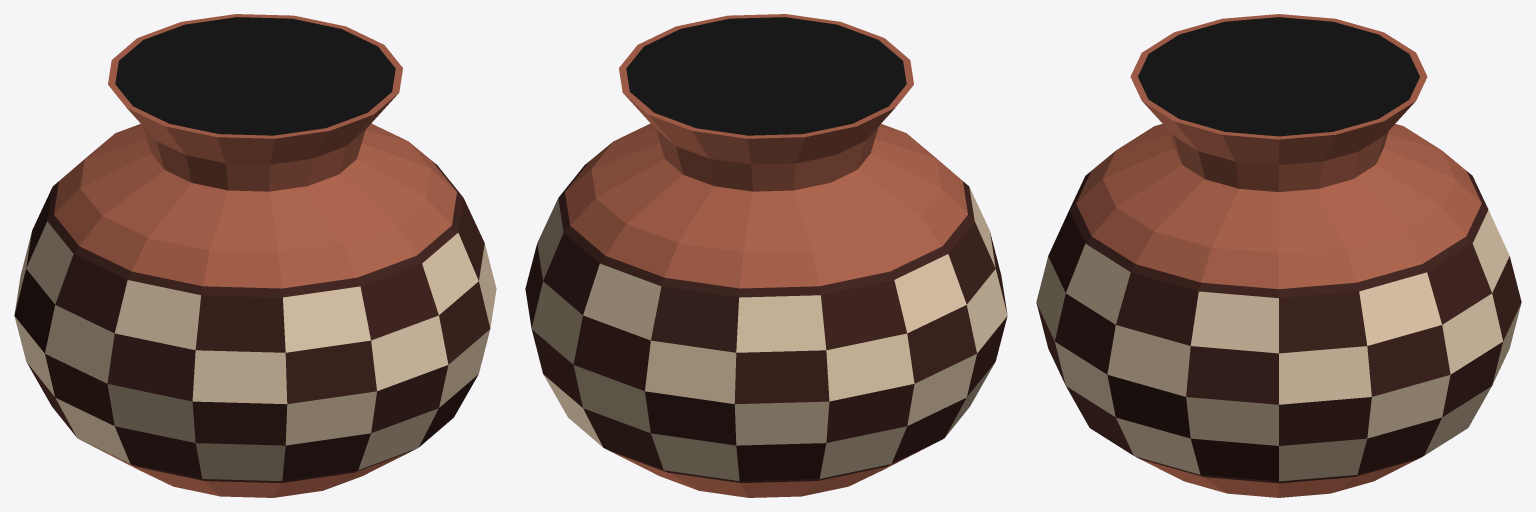
Rendered from greekPottery.fbx.
3 renders of one model, left to right at view 1: azimuth 30°, elevation 25°; view 2: azimuth 150°, elevation 25°; view 3: azimuth 270°, elevation 25°, orthographic.
Parts seen in each view (by area): view 1: Cylinder; view 2: Cylinder; view 3: Cylinder.
Boxes of the visible parts, left/top/right/bottom form: Cylinder: left=14, top=14, right=496, bottom=497; Cylinder: left=525, top=14, right=1007, bottom=497; Cylinder: left=1036, top=14, right=1521, bottom=497.
Bounding box in the file's own units: 190 × 166 × 190.
